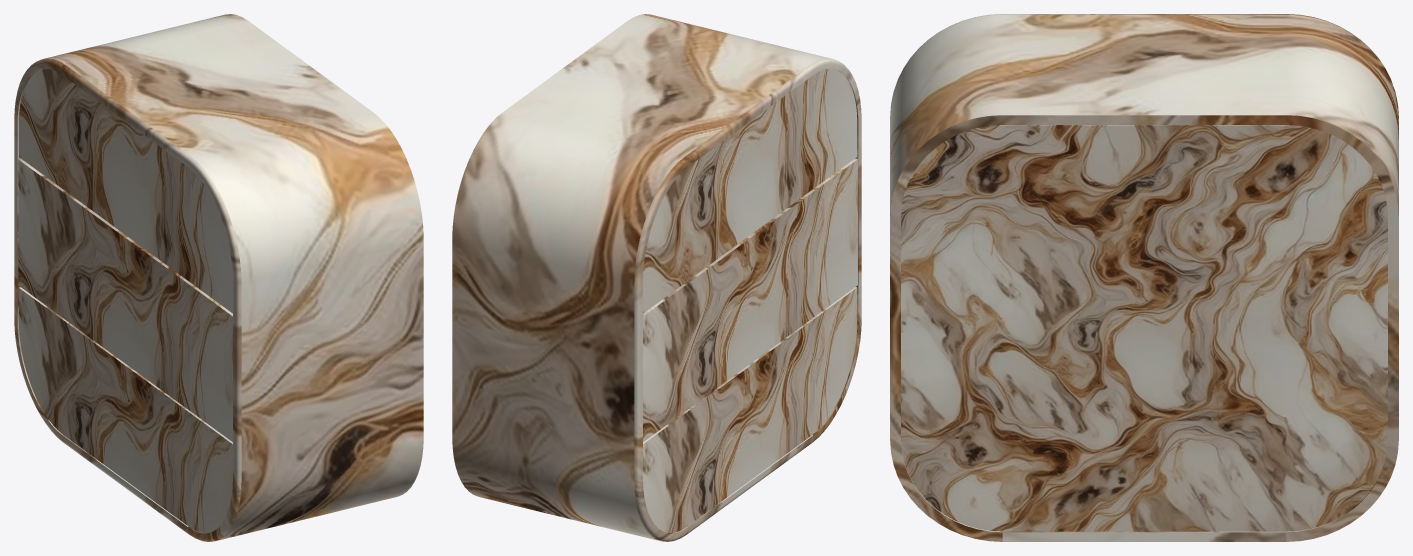
The model's file is 1tumba15.glb.
3 views of the same model, side by side, from view 1: azimuth 30°, elevation 25°; view 2: azimuth 150°, elevation 25°; view 3: azimuth 270°, elevation 25° (orthographic). The views are drawn at different scales.
Visible parts, largest first — view 1: tumba, Object03, Object02, Object01; view 2: tumba, Object03, Object02, Object01; view 3: Plane, tumba.
Part boxes in pixels (<box>): tumba: <box>14,14,423,541</box>; Object03: <box>18,159,232,441</box>; Object02: <box>19,287,232,532</box>; Object01: <box>19,68,232,313</box>; tumba: <box>452,14,861,541</box>; Object03: <box>643,158,857,441</box>; Object02: <box>643,287,857,532</box>; Object01: <box>643,68,857,313</box>; Plane: <box>901,125,1387,531</box>; tumba: <box>890,14,1398,541</box>.
Size of the model in its own units: 0.2246 by 0.435 by 0.47.
Materials: 5 (4 with a texture image).
